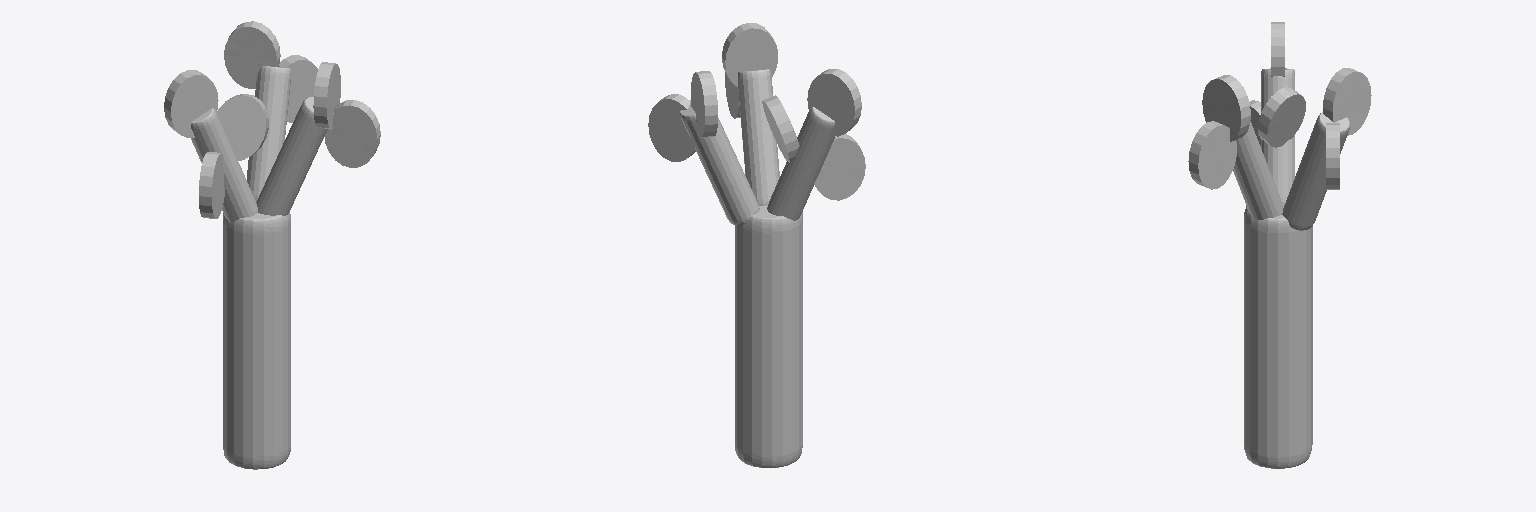
Rendered from tree-m-small.obj.
The picture shows the model from 3 angles: view 1: azimuth 30°, elevation 25°; view 2: azimuth 150°, elevation 25°; view 3: azimuth 270°, elevation 25°; orthographic projection.
Visible parts, largest first — view 1: obj_0; view 2: obj_0; view 3: obj_0.
Boxes of the visible parts, x1=… form: obj_0: x1=164, y1=21, x2=380, y2=469; obj_0: x1=648, y1=23, x2=865, y2=467; obj_0: x1=1188, y1=22, x2=1371, y2=468.
Bounding box in the file's own units: 2.05 × 4.37 × 1.81.